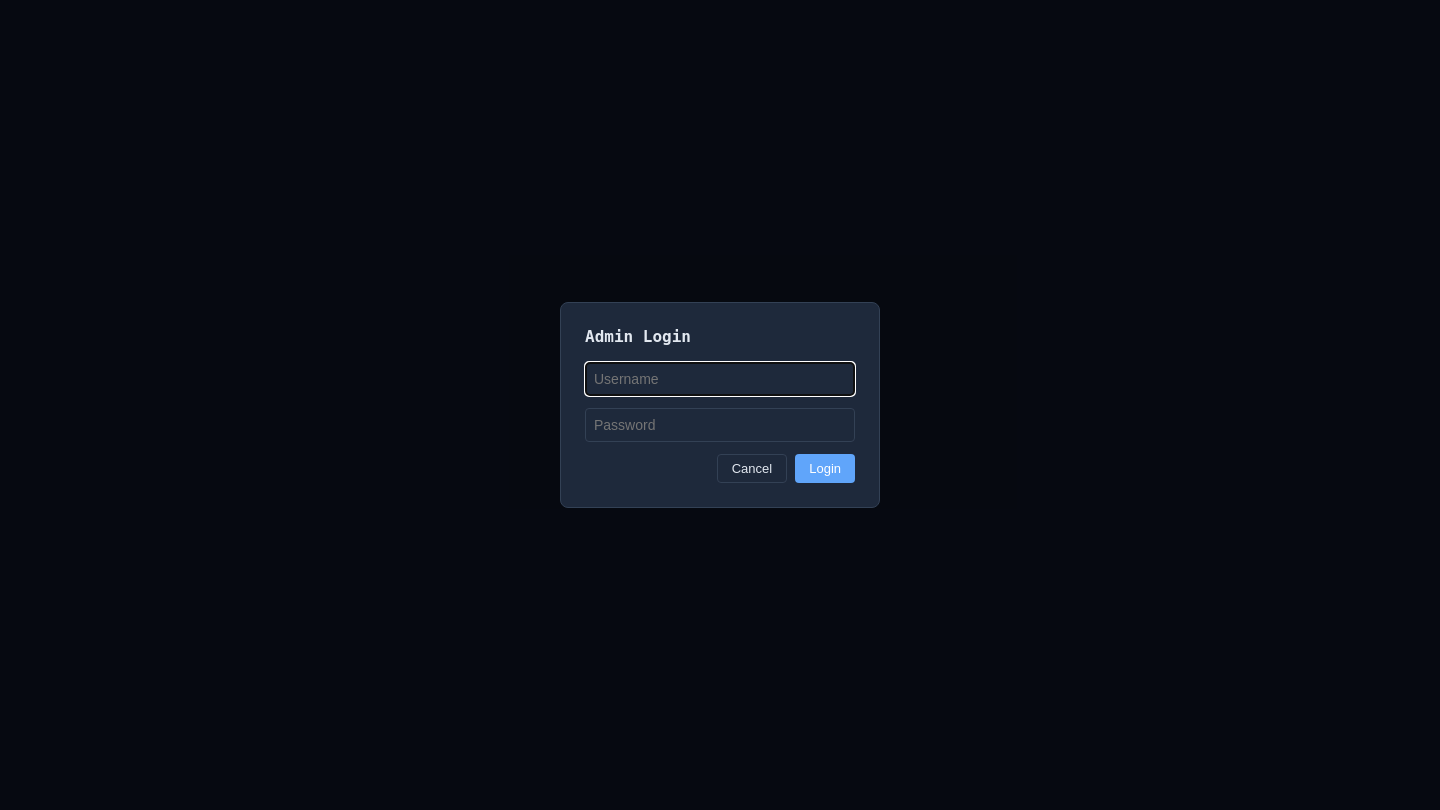
Test: LoginModal › shows error on failed login
This screenshot has width=1440, height=810.
Type "admin" into the field with placeholder "Username". click: (720,379)
box: [585,362,855,396]
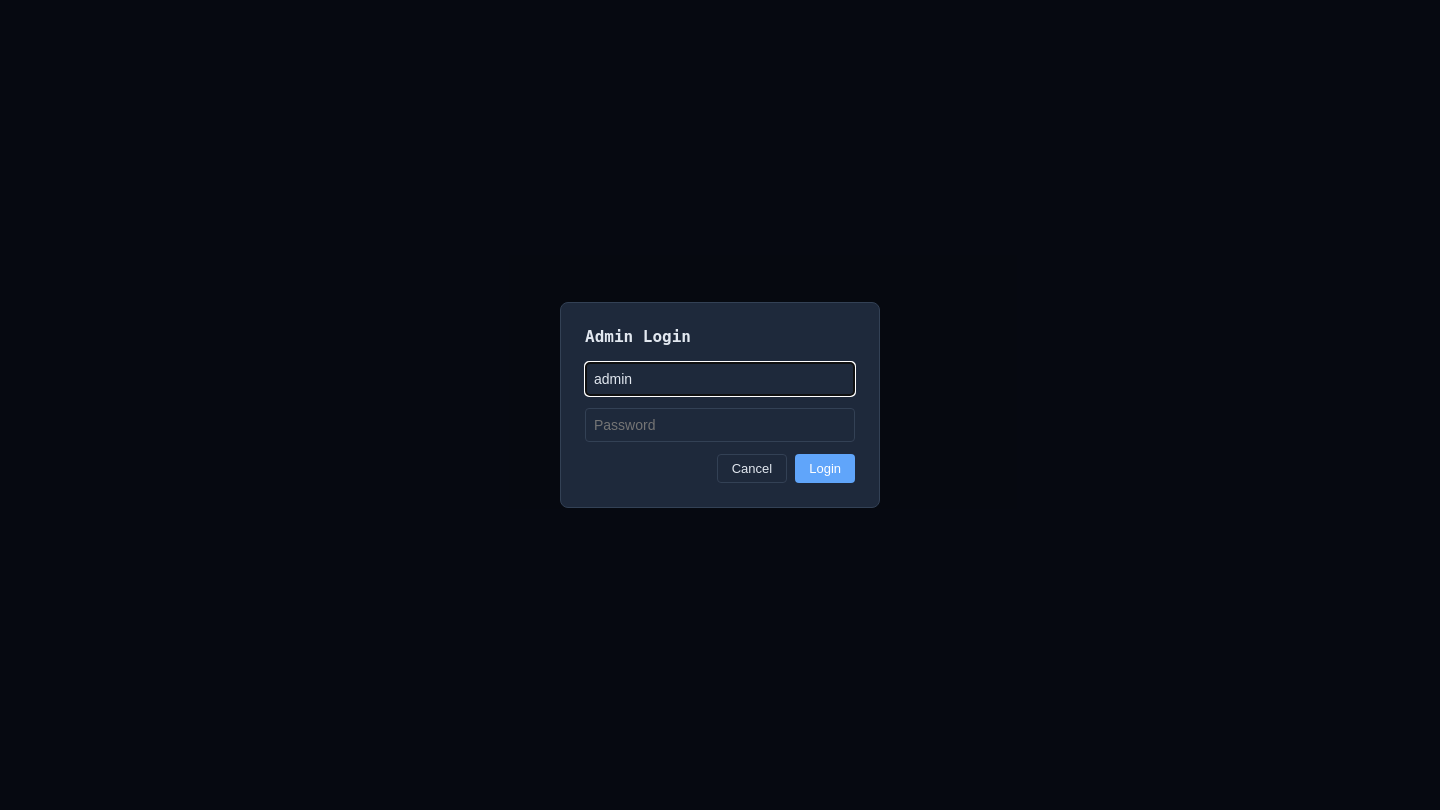
Type "wrong" into the password field with placeholder "Password". click: (720,425)
box: [585,408,855,442]
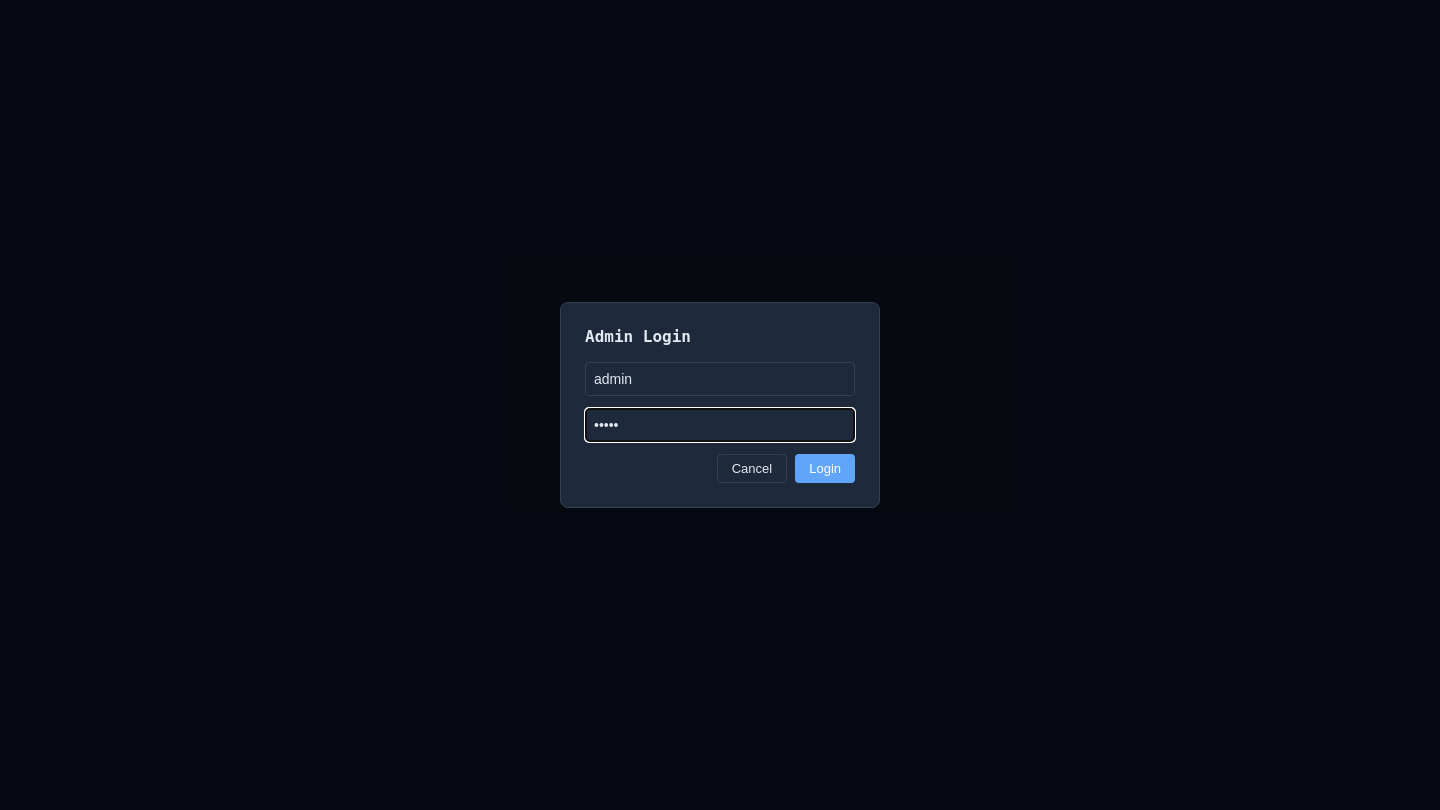
Click the button "Login". click: (825,468)
box: [795,454,855,483]
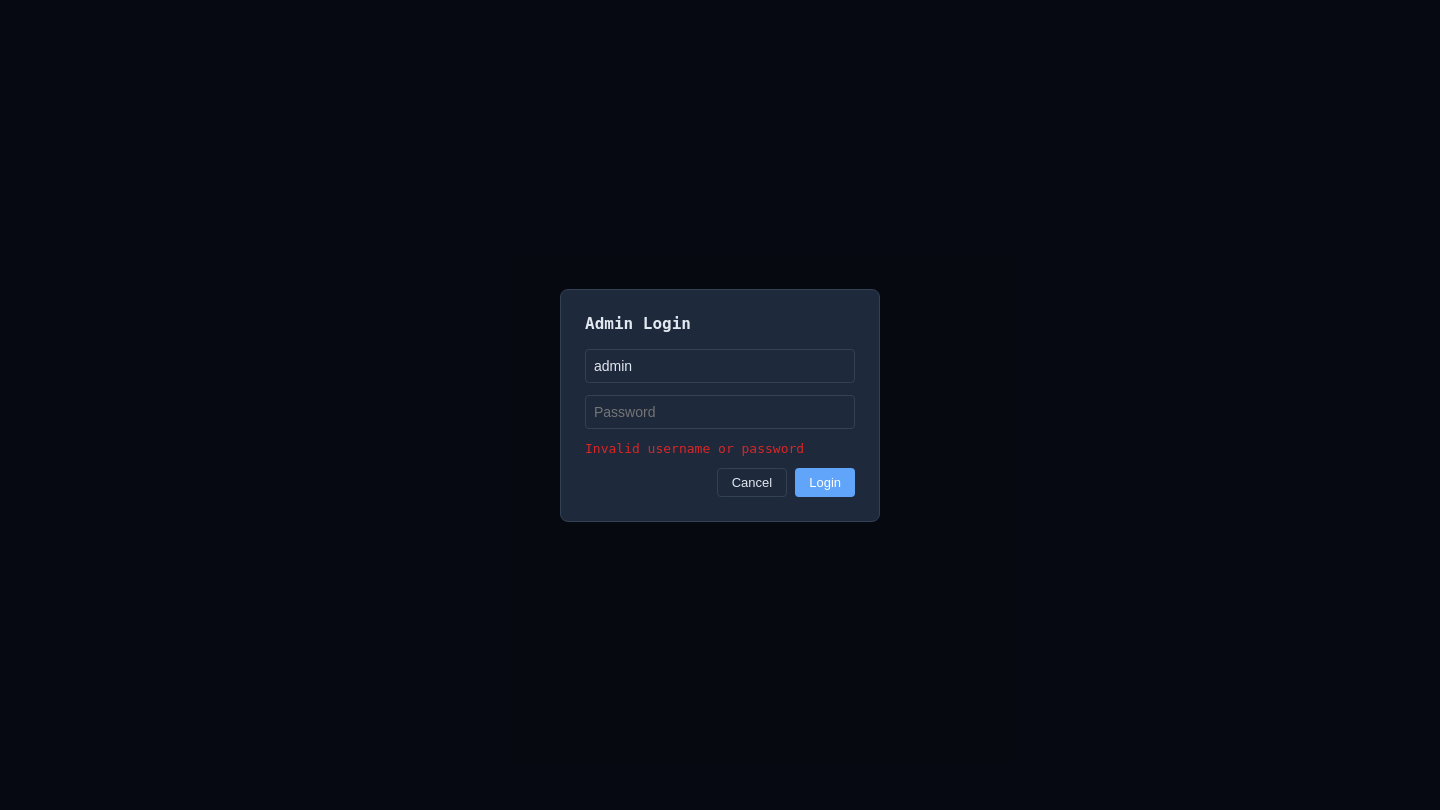
Check: the text "Invalid username or password" is shown, box [585,440,804,456]
